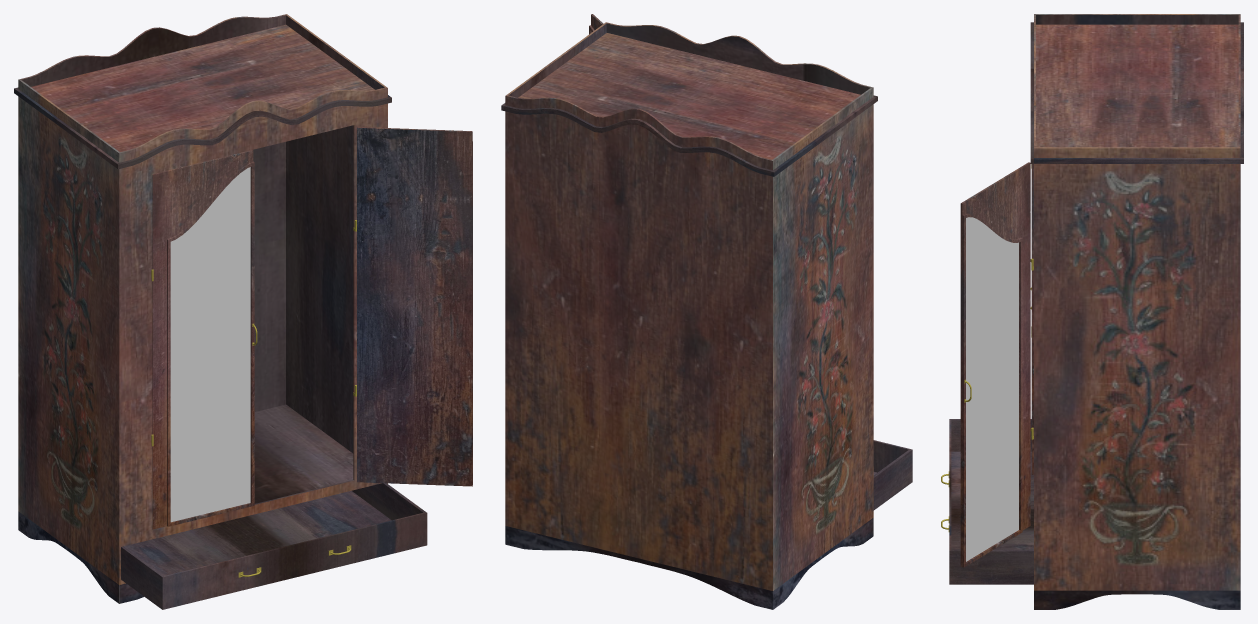
The model's file is wardrobe.glb.
3 renders of one model, left to right at view 1: azimuth 30°, elevation 25°; view 2: azimuth 150°, elevation 25°; view 3: azimuth 270°, elevation 25°, orthographic. The views are drawn at different scales.
Visible parts, largest first — view 1: garderob_5, object 2, object 3, object 4; view 2: garderob_5, object 4; view 3: garderob_5, object 2, object 4, object 3.
Boxes of the visible parts, x1,y1,x2,y2 form: garderob_5: (14, 14, 391, 603); object 2: (354, 127, 472, 486); object 3: (151, 150, 257, 529); object 4: (121, 483, 427, 609); garderob_5: (501, 22, 877, 609); object 4: (873, 440, 912, 510); garderob_5: (1030, 14, 1243, 609); object 2: (960, 162, 1033, 567); object 4: (941, 419, 1033, 584); object 3: (1030, 164, 1033, 474).
Size of the model in its own units: 1.36 by 1.88 by 1.07.
7 materials, 5 textured.
